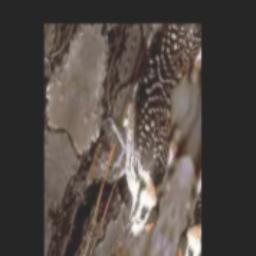Woodpecker: (79, 55, 189, 256)
